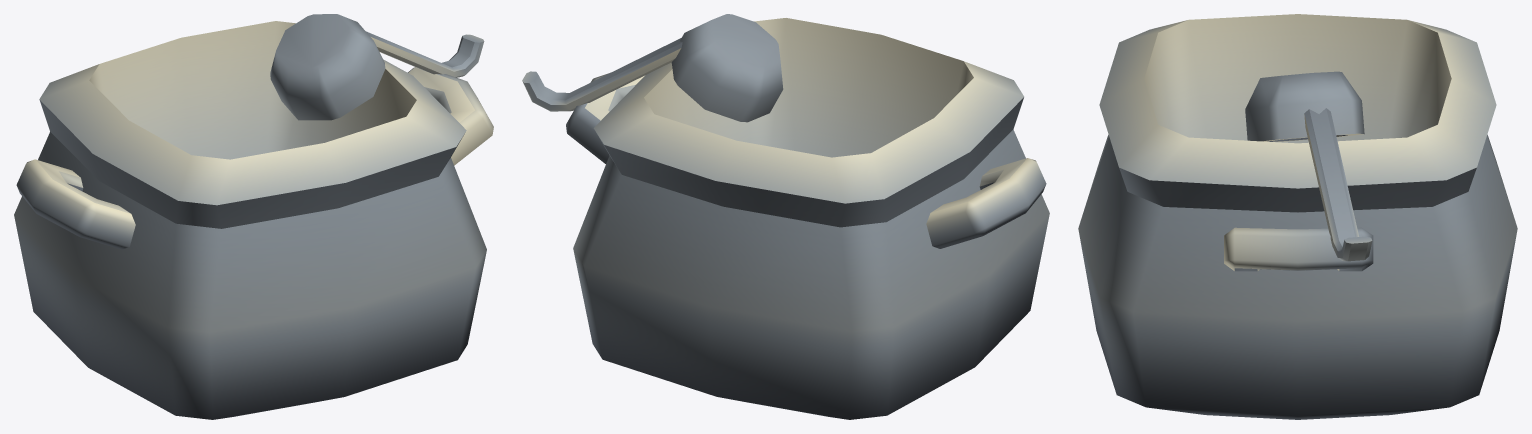
The model's file is pot_soup_laddle.fbx.
3 renders of one model, left to right at view 1: azimuth 30°, elevation 25°; view 2: azimuth 150°, elevation 25°; view 3: azimuth 270°, elevation 25°, orthographic. The views are drawn at different scales.
Parts seen in each view (by area): view 1: pot_soup_laddle; view 2: pot_soup_laddle; view 3: pot_soup_laddle.
Boxes of the visible parts, box(x1,y1,x2,y2) form: pot_soup_laddle: box(14, 14, 493, 419); pot_soup_laddle: box(522, 14, 1049, 419); pot_soup_laddle: box(1078, 14, 1517, 419).
Size of the model in its own units: 72.26 by 46.09 by 54.14.
